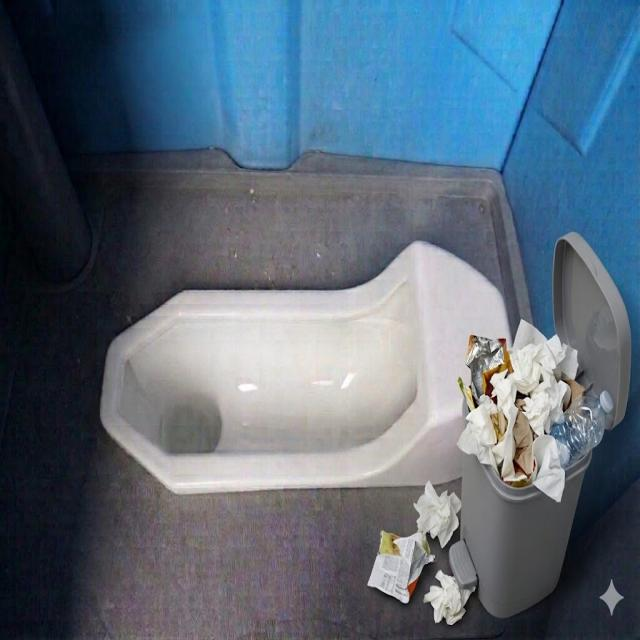overflow_bin: (358, 203, 633, 632)
